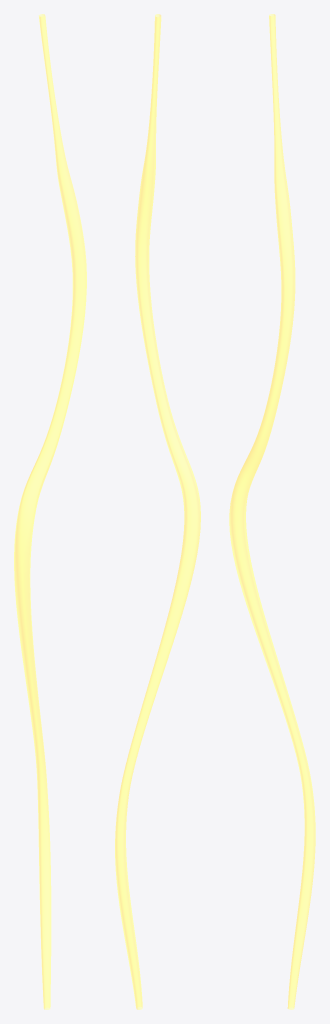
The model's file is strand_c_junction.glb.
3 renders of one model, left to right at view 1: azimuth 30°, elevation 25°; view 2: azimuth 150°, elevation 25°; view 3: azimuth 330°, elevation 25°, orthographic.
Size of the model in its own units: 0.5659 by 8 by 0.5143.
